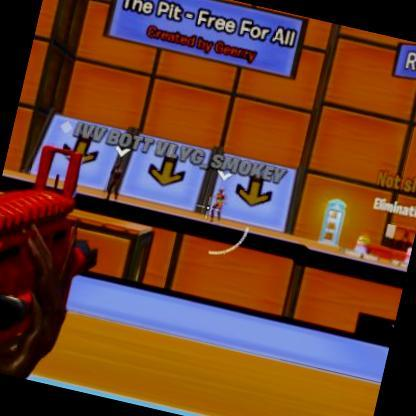person: (105, 162, 126, 197), (210, 187, 230, 213)
